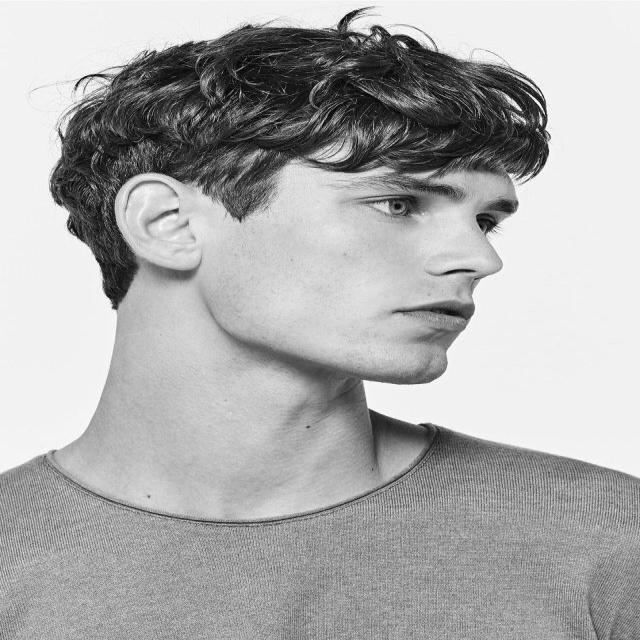front: (330, 170, 555, 372)
